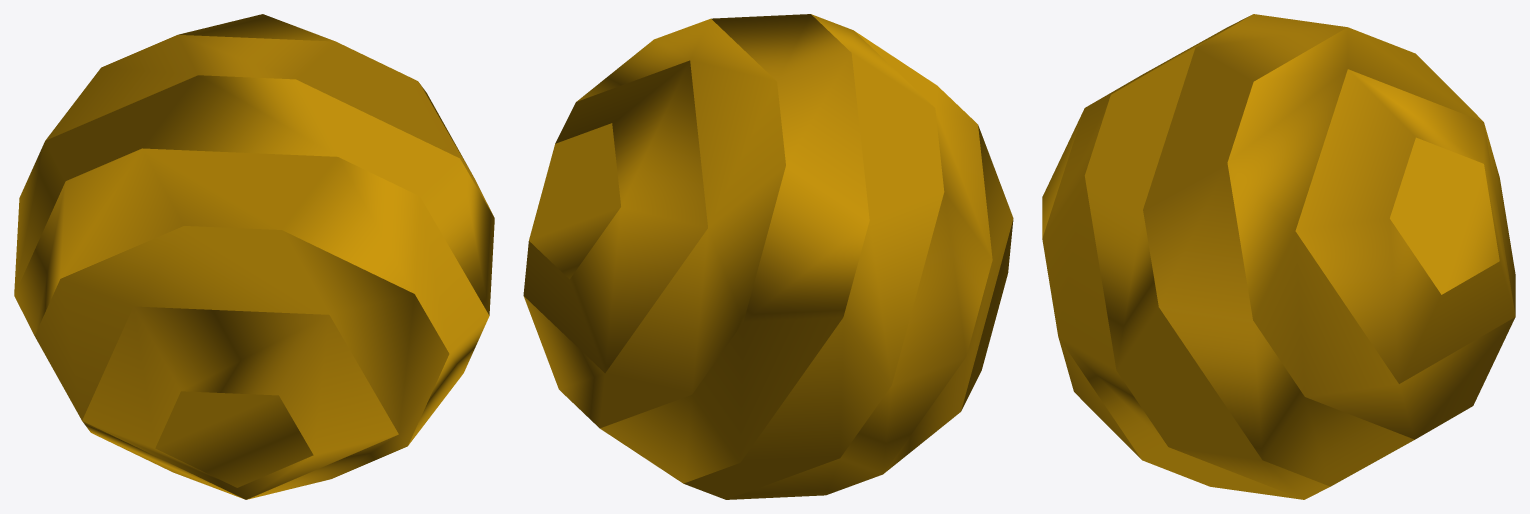
Rendered from gjcf.hrc.gltf.
3 renders of one model, left to right at view 1: azimuth 30°, elevation 25°; view 2: azimuth 150°, elevation 25°; view 3: azimuth 270°, elevation 25°, orthographic.
Parts seen in each view (by area): view 1: gjcfBone0_null; view 2: gjcfBone0_null; view 3: gjcfBone0_null.
Boxes of the visible parts, x1,y1,x2,y2 form: gjcfBone0_null: [14, 14, 494, 499]; gjcfBone0_null: [523, 14, 1013, 499]; gjcfBone0_null: [1042, 14, 1515, 499].
Size of the model in its own units: 7.77 by 7.46 by 7.65.
